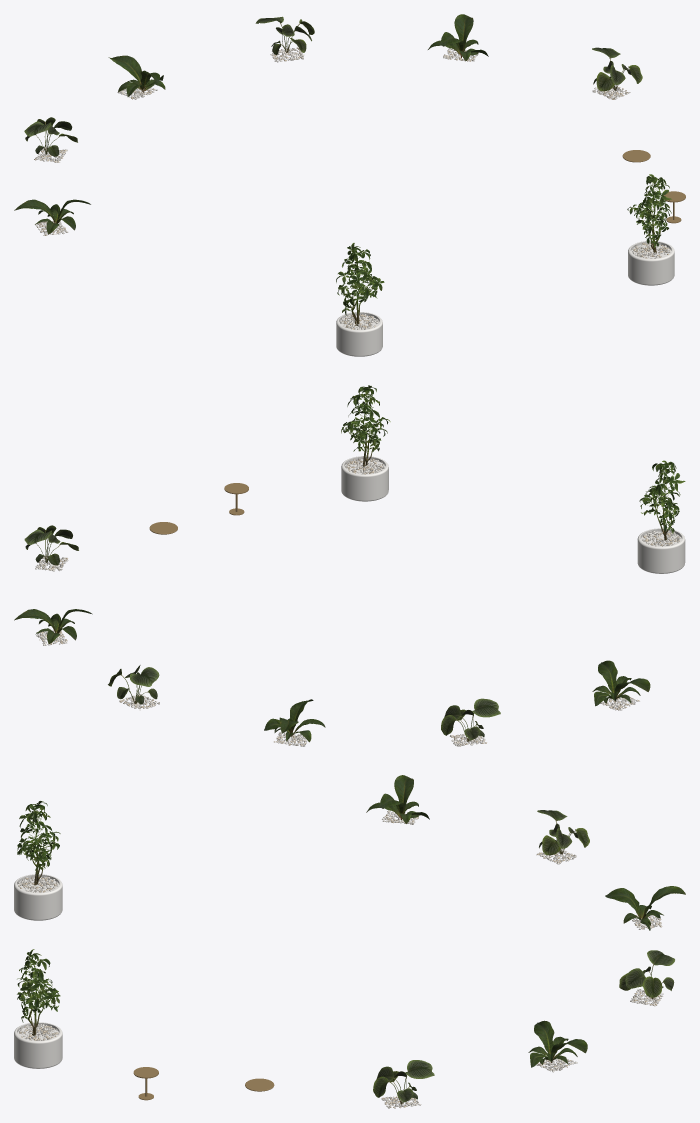
Rendered from hall_props.glb.
3 renders of one model, top to bottom at view 1: azimuth 30°, elevation 25°; view 2: azimuth 150°, elevation 25°; view 3: azimuth 270°, elevation 25°, orthographic. The views are drawn at different scales.
Visible parts, largest first — view 1: prop_planter_round_1, prop_planter_round_-1, prop_pachira_aquatica_01_7_pachira_aquatica_01_leaves_d, prop_pachira_aquatica_01_8_pachira_aquatica_01_leaves_d, prop_anthurium_botany_01_5_anthurium_botany_01_a, prop_anthurium_botany_01_3_anthurium_botany_01_a, prop_calathea_orbifolia_01_6_calathea_orbifolia_01_a, prop_calathea_orbifolia_01_2_calathea_orbifolia_01_a, prop_anthurium_botany_01_1_anthurium_botany_01_a, prop_calathea_orbifolia_01_4_calathea_orbifolia_01_a; view 2: prop_planter_round_-1, prop_planter_round_1, prop_pachira_aquatica_01_8_pachira_aquatica_01_leaves_d, prop_pachira_aquatica_01_7_pachira_aquatica_01_leaves_d, prop_anthurium_botany_01_1_anthurium_botany_01_a, prop_calathea_orbifolia_01_2_calathea_orbifolia_01_a, prop_calathea_orbifolia_01_6_calathea_orbifolia_01_a, prop_anthurium_botany_01_3_anthurium_botany_01_a, prop_anthurium_botany_01_5_anthurium_botany_01_a, prop_calathea_orbifolia_01_4_calathea_orbifolia_01_a; view 3: prop_planter_round_-1, prop_planter_round_1, prop_pachira_aquatica_01_8_pachira_aquatica_01_leaves_d, prop_pachira_aquatica_01_7_pachira_aquatica_01_leaves_d, prop_anthurium_botany_01_5_anthurium_botany_01_a, prop_calathea_orbifolia_01_4_calathea_orbifolia_01_a, prop_calathea_orbifolia_01_6_calathea_orbifolia_01_a, prop_anthurium_botany_01_1_anthurium_botany_01_a, prop_anthurium_botany_01_3_anthurium_botany_01_a, prop_calathea_orbifolia_01_2_calathea_orbifolia_01_a.
Boxes of the visible parts, x1,y1,x2,y2 form: prop_planter_round_1: (628,240,674,285); prop_planter_round_-1: (336,312,382,356); prop_pachira_aquatica_01_7_pachira_aquatica_01_leaves_d: (336,243,384,315); prop_pachira_aquatica_01_8_pachira_aquatica_01_leaves_d: (627,174,671,247); prop_anthurium_botany_01_5_anthurium_botany_01_a: (428,14,488,60); prop_anthurium_botany_01_3_anthurium_botany_01_a: (108,55,165,96); prop_calathea_orbifolia_01_6_calathea_orbifolia_01_a: (592,47,642,91); prop_calathea_orbifolia_01_2_calathea_orbifolia_01_a: (24,117,77,156); prop_anthurium_botany_01_1_anthurium_botany_01_a: (14,199,90,234); prop_calathea_orbifolia_01_4_calathea_orbifolia_01_a: (255,16,314,54); prop_planter_round_-1: (637,528,685,573); prop_planter_round_1: (341,456,388,501); prop_pachira_aquatica_01_8_pachira_aquatica_01_leaves_d: (341,385,390,451); prop_pachira_aquatica_01_7_pachira_aquatica_01_leaves_d: (639,460,685,533); prop_anthurium_botany_01_1_anthurium_botany_01_a: (592,660,650,706); prop_calathea_orbifolia_01_2_calathea_orbifolia_01_a: (441,698,500,741); prop_calathea_orbifolia_01_6_calathea_orbifolia_01_a: (24,525,78,565); prop_anthurium_botany_01_3_anthurium_botany_01_a: (264,699,325,742); prop_anthurium_botany_01_5_anthurium_botany_01_a: (14,609,92,643); prop_calathea_orbifolia_01_4_calathea_orbifolia_01_a: (108,665,159,704); prop_planter_round_-1: (14,874,62,920); prop_planter_round_1: (14,1022,62,1068); prop_pachira_aquatica_01_8_pachira_aquatica_01_leaves_d: (17,949,60,1022); prop_pachira_aquatica_01_7_pachira_aquatica_01_leaves_d: (17,801,60,870); prop_anthurium_botany_01_5_anthurium_botany_01_a: (528,1020,587,1067); prop_calathea_orbifolia_01_4_calathea_orbifolia_01_a: (619,950,674,998); prop_calathea_orbifolia_01_6_calathea_orbifolia_01_a: (373,1060,434,1104); prop_anthurium_botany_01_1_anthurium_botany_01_a: (366,775,429,823); prop_anthurium_botany_01_3_anthurium_botany_01_a: (605,886,685,930); prop_calathea_orbifolia_01_2_calathea_orbifolia_01_a: (537,810,589,855).
Size of the model in its own units: 15.18 by 2.46 by 13.8.
Materials: 9 (4 with a texture image).
